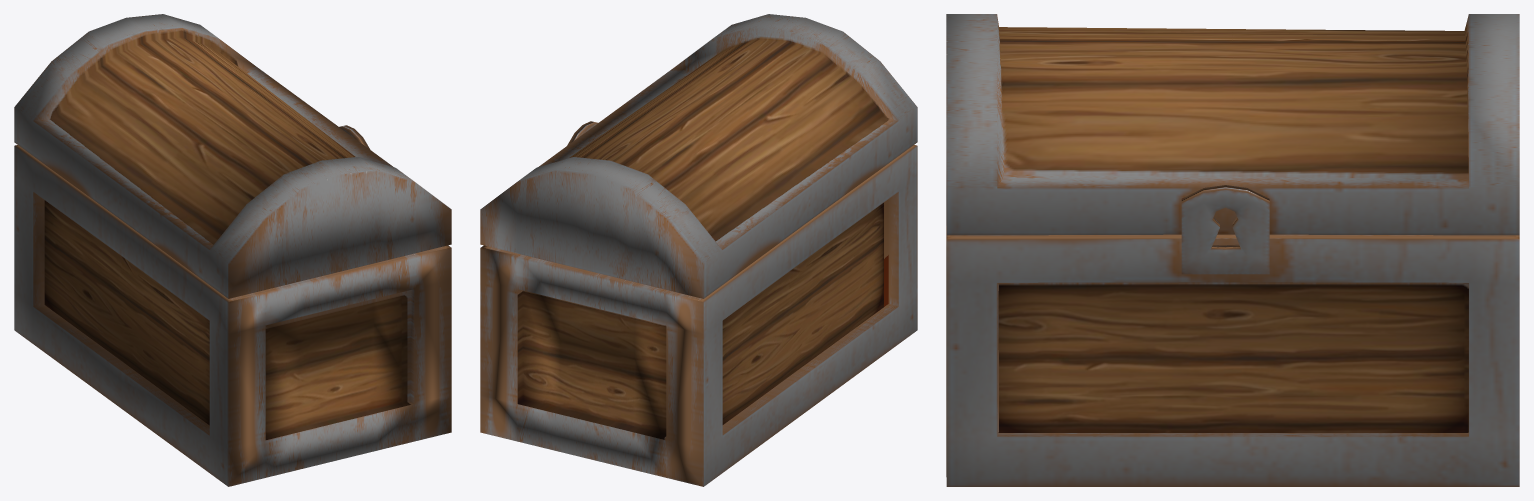
The model's file is chest.glb.
The picture shows the model from 3 angles, left to right: view 1: azimuth 30°, elevation 25°; view 2: azimuth 150°, elevation 25°; view 3: azimuth 270°, elevation 25°; orthographic projection. The views are drawn at different scales.
Parts seen in each view (by area): view 1: Object_2, Object_3; view 2: Object_2, Object_3; view 3: Object_3, Object_2.
Part boxes in pixels (box(x1,y1,x2,y2)): Object_2: box(14, 14, 451, 486); Object_3: box(44, 37, 410, 436); Object_2: box(480, 14, 917, 486); Object_3: box(523, 39, 888, 434); Object_3: box(999, 27, 1468, 431); Object_2: box(946, 14, 1519, 486).
Bounding box in the file's own units: 0.3718 × 0.4391 × 0.5972.
2 materials, 2 textured.
